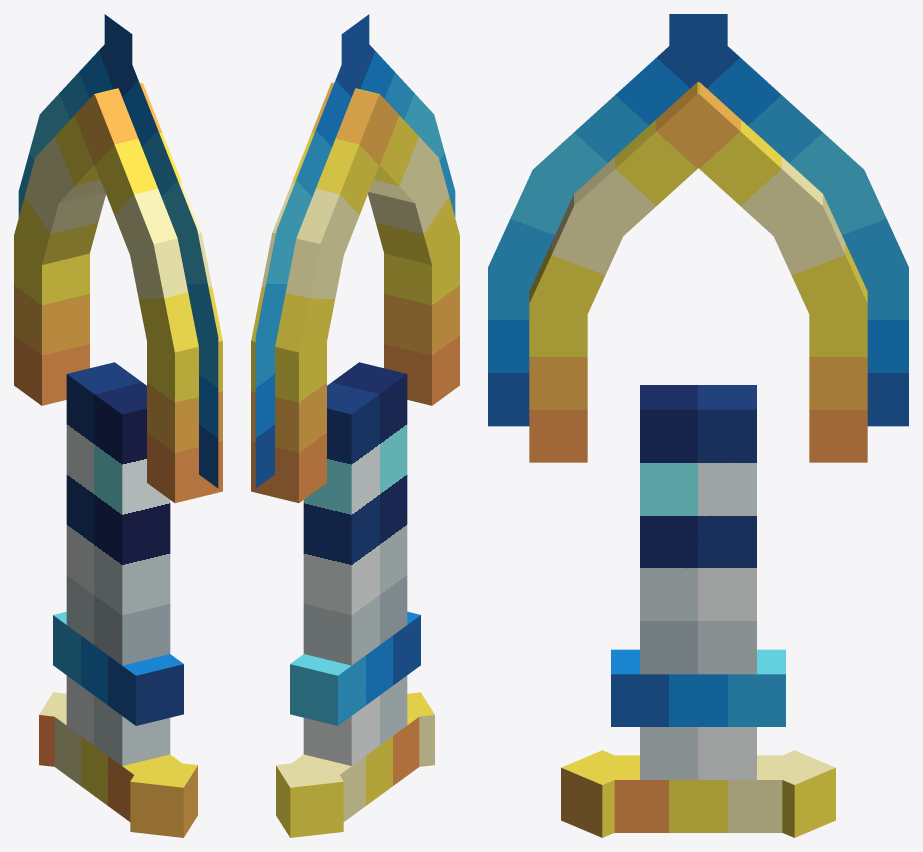
Rendered from toffy_key_paladin.gltf.
3 renders of one model, left to right at view 1: azimuth 30°, elevation 25°; view 2: azimuth 150°, elevation 25°; view 3: azimuth 270°, elevation 25°, orthographic. The views are drawn at different scales.
Visible parts, largest first — view 1: cube (×18); view 2: cube (×18); view 3: cube (×19).
Boxes of the visible parts, x1,y1,x2,y2 form: cube (×18): (14, 14, 222, 837); cube (×18): (251, 14, 459, 837); cube (×19): (488, 14, 908, 837).
Size of the model in its own units: 0.0884 by 0.9531 by 0.4509.
1 material, 1 textured.
